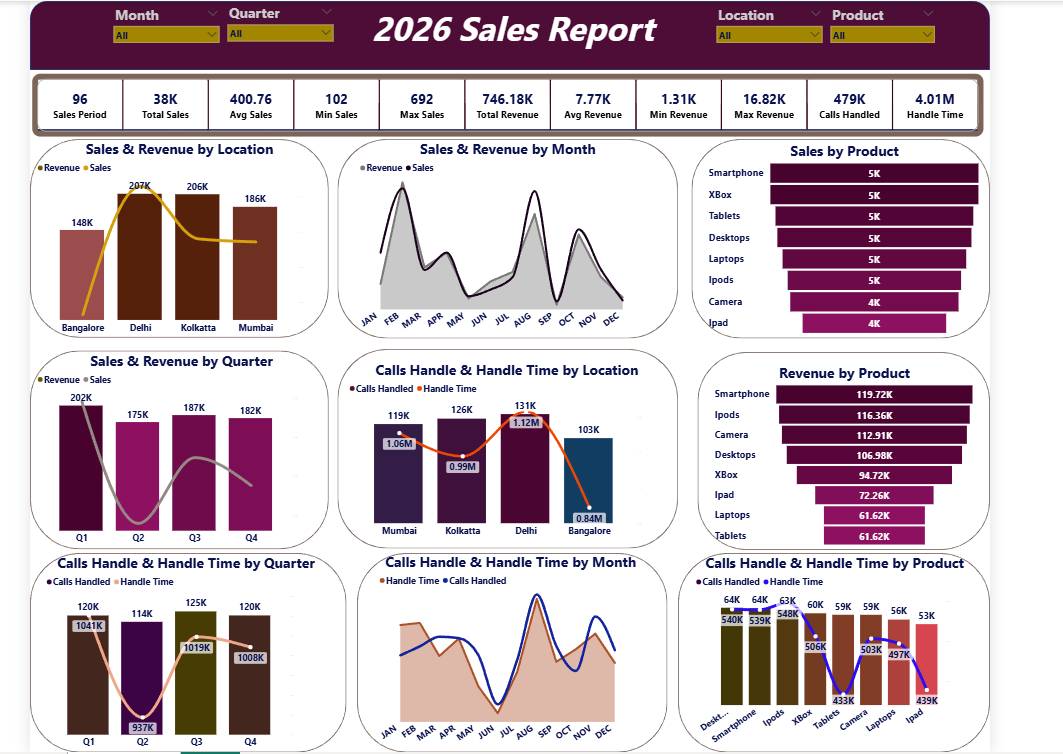

The page's visual inventory and layout, read from the dashboard file:
{"tool":"powerbi","page":{"name":"Page 1","canvas":[2300,1800],"ordinal":0},"visuals":[{"type":"shape","box":[1585.5,330.8,715.5,478.2],"z":0},{"type":"shape","box":[0,0,2301,165.4],"z":1000},{"type":"textbox","title":"2026 Sales Report","box":[744.2,10.8,826.9,143.8],"z":2000},{"type":"shape","box":[0,329.6,716.1,476.4],"z":3000},{"type":"lineStackedColumnComboChart","fields":{"Category":["Raw Data.Location"],"Y2":["Sum(Raw Data.Sales)"],"Y":["Sum(Raw Data.Revenue)"]},"box":[12,332.6,695.1,476.4],"z":4000},{"type":"cardVisual","fields":{"Data":["CountNonNull(Raw Data.Sale Month)","Sum(Raw Data.Sales)","Avg(Raw Data.Sales)","Min(Raw Data.Sales)","Max(Raw Data.Sales)","Sum(Raw Data.Revenue)","Avg(Raw Data.Revenue)","Min(Raw Data.Revenue)","Max(Raw Data.Revenue)","Sum(Raw Data.Calls Handled)","Sum(Raw Data.Handle Time)"]},"box":[0,169,2301,161.8],"z":5000},{"type":"shape","box":[737,330.8,816.1,478.2],"z":6000},{"type":"areaChart","fields":{"Category":["Raw Data.Month name"],"Y":["Sum(Raw Data.Revenue)"],"Y2":["Sum(Raw Data.Sales)"]},"box":[783.8,330.8,722.7,478.2],"z":7000},{"type":"slicer","fields":{"Values":["Raw Data.Location"]},"box":[1635.9,3.6,273.2,165.4],"z":8000},{"type":"slicer","fields":{"Values":["Raw Data.Month name"]},"box":[190.5,3.6,273.2,165.4],"z":9000},{"type":"shape","box":[1599.9,841.3,701.1,474.6],"z":10000},{"type":"shape","box":[0,835.9,716.1,476.4],"z":11000},{"type":"lineStackedColumnComboChart","fields":{"Y2":["Sum(Raw Data.Sales)"],"Y":["Sum(Raw Data.Revenue)"],"Category":["Raw Data.Quarter"]},"box":[10.8,837.7,704.7,474.6],"z":12000},{"type":"shape","box":[783.8,1323.1,744.2,478.2],"z":13000},{"type":"shape","box":[0,1323.1,758.6,478.2],"z":14000},{"type":"slicer","fields":{"Values":["Raw Data.Quarter"]},"box":[463.8,0,273.2,165.4],"z":15000},{"type":"funnel","fields":{"Category":["Raw Data.Product"],"Y":["Sum(Raw Data.Sales)"]},"box":[1621.5,334.4,661.5,471],"z":16000},{"type":"funnel","fields":{"Category":["Raw Data.Product"],"Y":["Sum(Raw Data.Revenue)"]},"box":[1635.9,866.5,632.8,445.8],"z":17000},{"type":"shape","box":[1553.2,1323.1,747.8,478.2],"z":18000},{"type":"shape","box":[737,834.1,816.1,478.2],"z":19000},{"type":"lineStackedColumnComboChart","fields":{"Y2":["Sum(Raw Data.Handle Time)"],"Y":["Sum(Raw Data.Calls Handled)"],"Category":["Raw Data.Location"]},"box":[758.6,859.3,769.4,435],"z":20000},{"type":"lineStackedColumnComboChart","fields":{"Y2":["Sum(Raw Data.Handle Time)"],"Y":["Sum(Raw Data.Calls Handled)"],"Category":["Raw Data.Quarter"]},"box":[32.4,1323.1,683.1,478.2],"z":21000},{"type":"lineStackedColumnComboChart","fields":{"Y2":["Sum(Raw Data.Handle Time)"],"Y":["Sum(Raw Data.Calls Handled)"],"Category":["Raw Data.Product"]},"box":[1589.1,1323.1,679.5,478.2],"z":23000},{"type":"areaChart","fields":{"Category":["Raw Data.Month name"],"Y":["Sum(Raw Data.Handle Time)"],"Y2":["Sum(Raw Data.Calls Handled)"]},"box":[830.5,1319.5,643.6,478.2],"z":24000},{"type":"slicer","fields":{"Values":["Raw Data.Product"]},"box":[1909.1,3.6,269.6,165.4],"z":25000}]}

Visuals, with their boxes on the page's 2300x1800 design canvas (x1, y1, x2, y2). These are canvas units, not pixel positions in the 1063x754 screenshot, which may show the page scaled, cropped or inside an application window:
shape: bbox(1586, 331, 2301, 809)
shape: bbox(0, 0, 2301, 165)
"2026 Sales Report" textbox: bbox(744, 11, 1571, 155)
shape: bbox(0, 330, 716, 806)
lineStackedColumnComboChart - Raw Data.Location x Sum(Raw Data.Sales): bbox(12, 333, 707, 809)
cardVisual - CountNonNull(Raw Data.Sale Month) x Sum(Raw Data.Sales): bbox(0, 169, 2301, 331)
shape: bbox(737, 331, 1553, 809)
areaChart - Raw Data.Month name x Sum(Raw Data.Revenue): bbox(784, 331, 1506, 809)
slicer - Raw Data.Location: bbox(1636, 4, 1909, 169)
slicer - Raw Data.Month name: bbox(190, 4, 464, 169)
shape: bbox(1600, 841, 2301, 1316)
shape: bbox(0, 836, 716, 1312)
lineStackedColumnComboChart - Sum(Raw Data.Sales) x Sum(Raw Data.Revenue): bbox(11, 838, 716, 1312)
shape: bbox(784, 1323, 1528, 1801)
shape: bbox(0, 1323, 759, 1801)
slicer - Raw Data.Quarter: bbox(464, 0, 737, 165)
funnel - Raw Data.Product x Sum(Raw Data.Sales): bbox(1622, 334, 2283, 805)
funnel - Raw Data.Product x Sum(Raw Data.Revenue): bbox(1636, 866, 2269, 1312)
shape: bbox(1553, 1323, 2301, 1801)
shape: bbox(737, 834, 1553, 1312)
lineStackedColumnComboChart - Sum(Raw Data.Handle Time) x Sum(Raw Data.Calls Handled): bbox(759, 859, 1528, 1294)
lineStackedColumnComboChart - Sum(Raw Data.Handle Time) x Sum(Raw Data.Calls Handled): bbox(32, 1323, 716, 1801)
lineStackedColumnComboChart - Sum(Raw Data.Handle Time) x Sum(Raw Data.Calls Handled): bbox(1589, 1323, 2269, 1801)
areaChart - Raw Data.Month name x Sum(Raw Data.Handle Time): bbox(830, 1320, 1474, 1798)
slicer - Raw Data.Product: bbox(1909, 4, 2179, 169)
